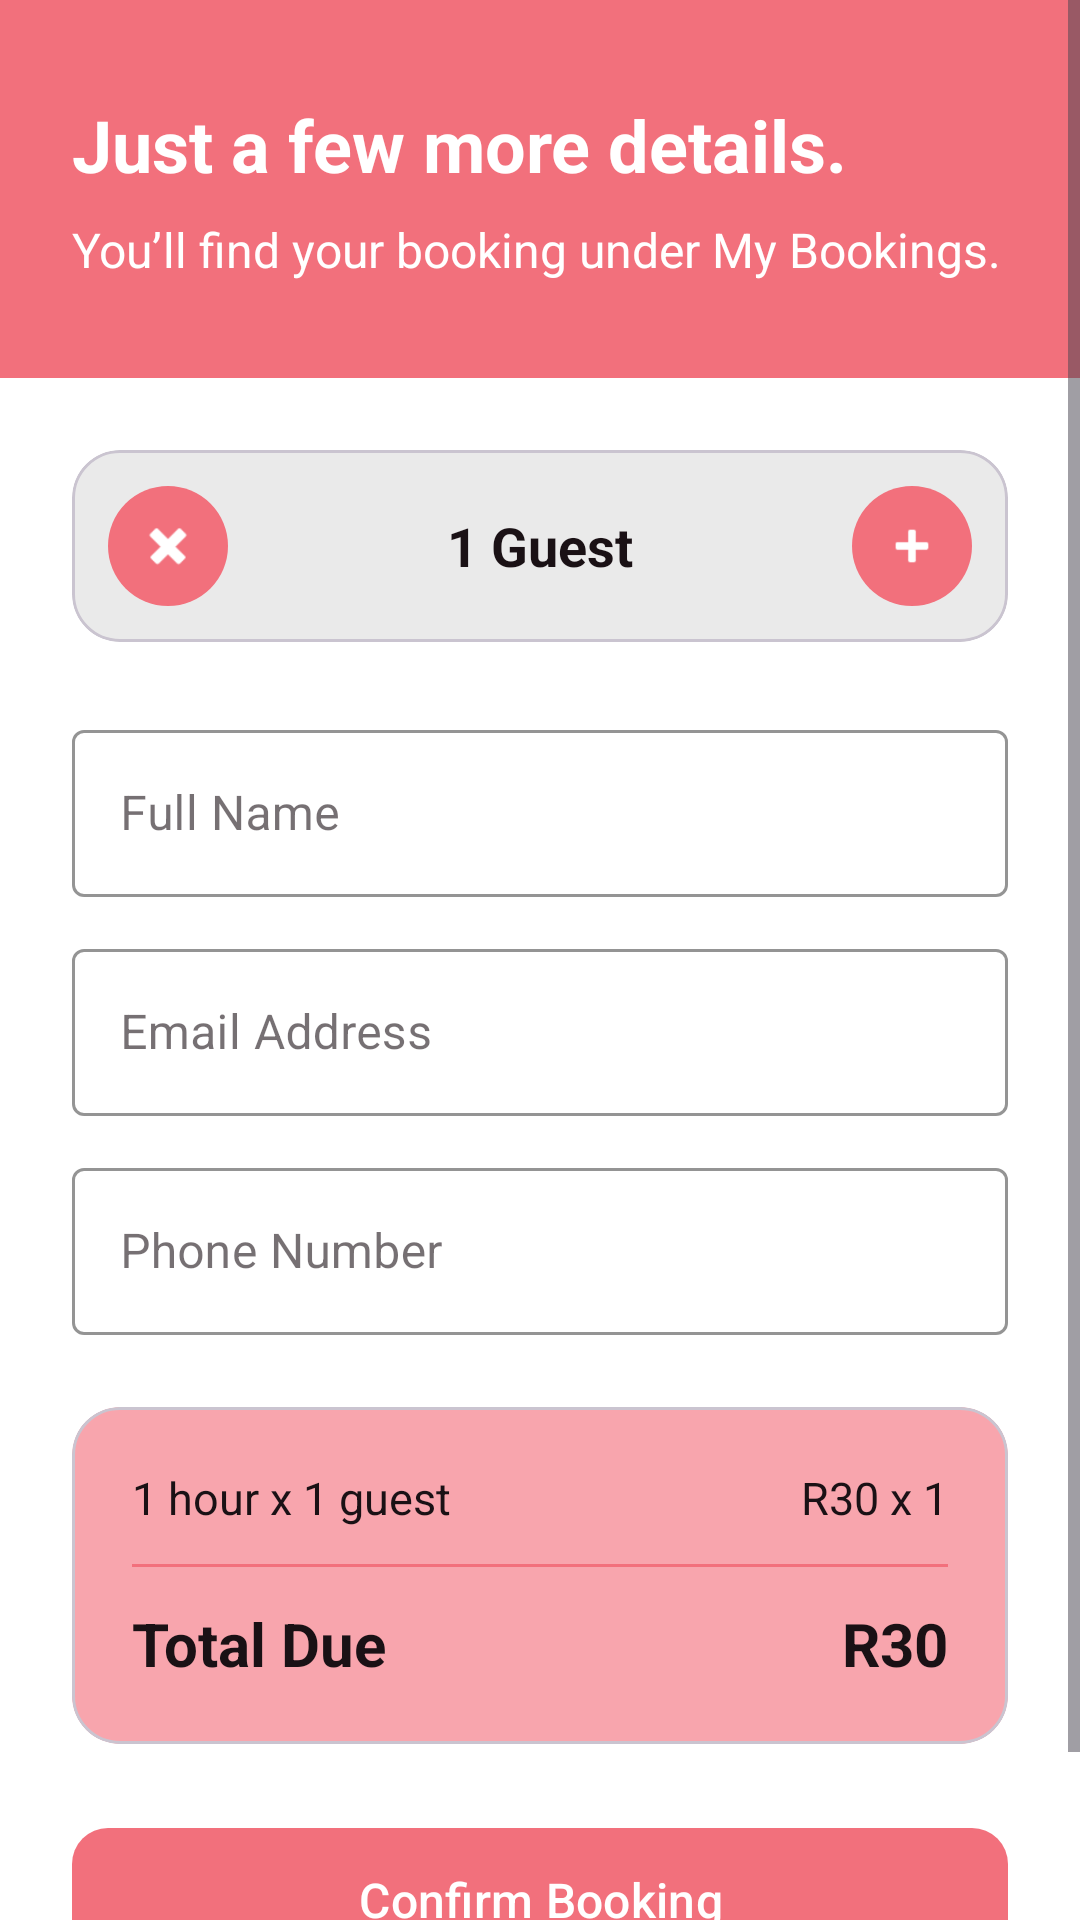

Named icons in this screenshot (1080x1920) and their centers, (x,y):
add: (912,546)
delete: (168,546)
